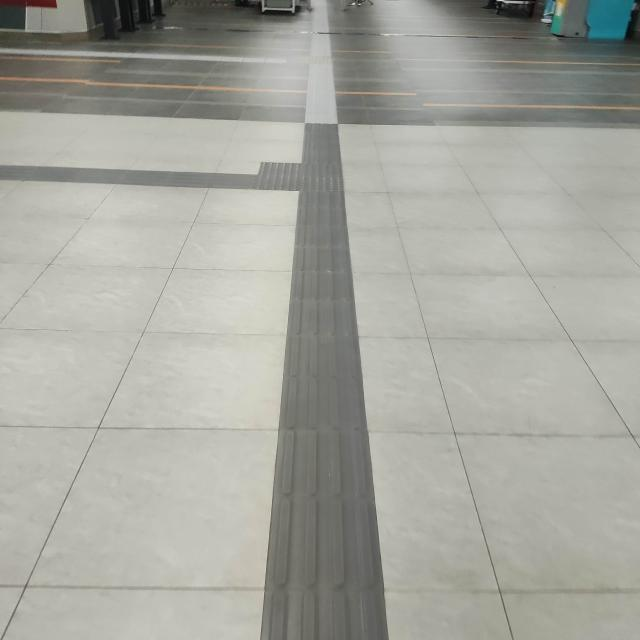lurus: (282, 197, 395, 640)
